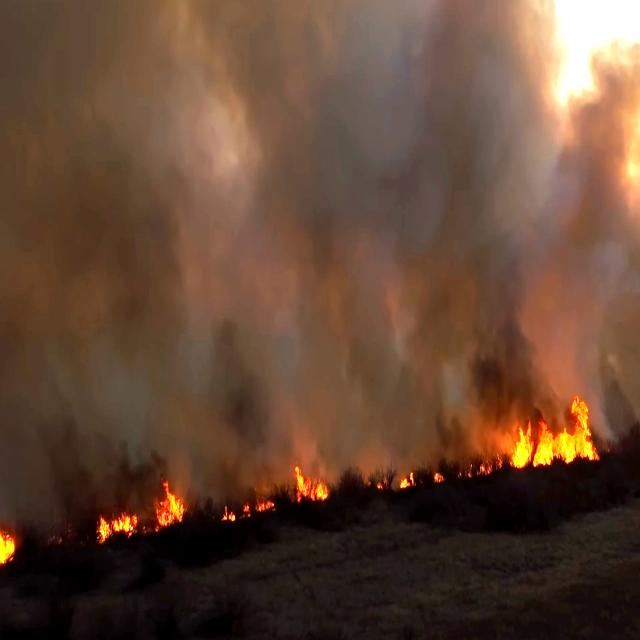fire: (518, 389, 588, 472), (0, 501, 27, 569)
smoke: (314, 0, 532, 257)
